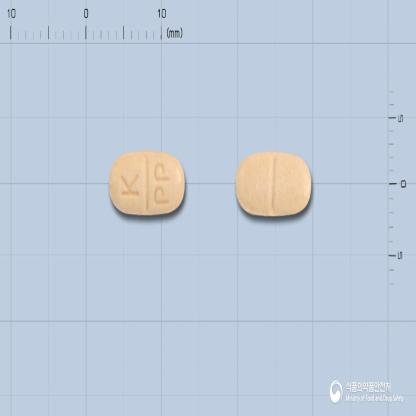pill: (108, 149, 185, 217), (235, 150, 312, 217)
